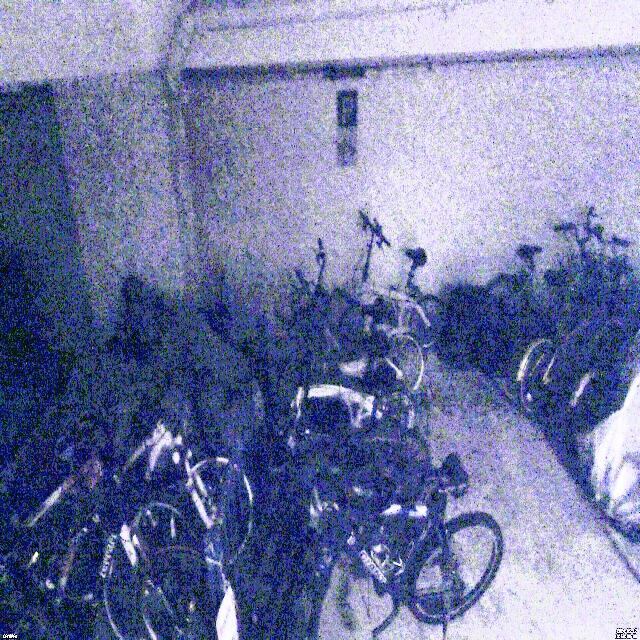bike: (284, 452, 504, 640), (40, 398, 255, 580), (286, 238, 427, 398), (473, 218, 613, 368), (337, 212, 449, 360)
